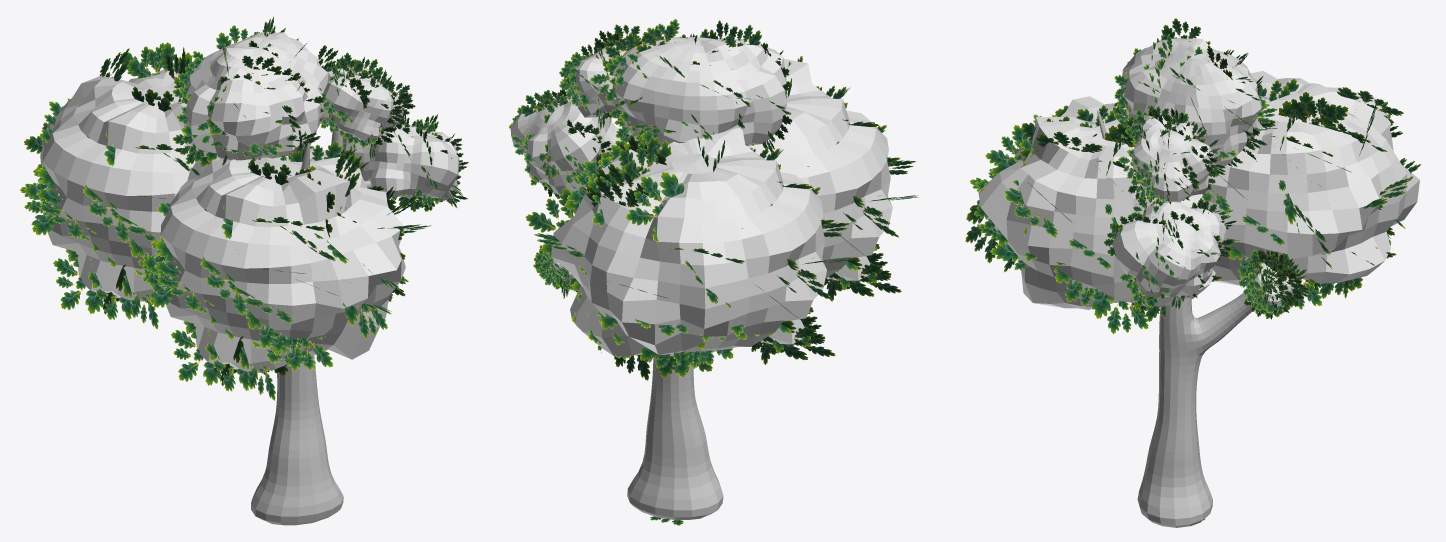
File: ldub.fbx
3 renders of one model, left to right at view 1: azimuth 30°, elevation 25°; view 2: azimuth 150°, elevation 25°; view 3: azimuth 270°, elevation 25°, orthographic. The views are drawn at different scales.
Parts seen in each view (by area): view 1: Сфера.003, Сфера.004, Сфера.002, Куб, Сфера, Сфера.005, Сфера.003|Плоскость|Dupli|25, Сфера.004|Плоскость|Dupli|25, Сфера.003|Плоскость|Dupli|183, Сфера.004|Плоскость|Dupli|93, Сфера.003|Плоскость|Dupli|27, Сфера.004|Плоскость|Dupli|27 (+12 smaller); view 2: Сфера.004, Сфера.002, Сфера.003, Куб, Сфера, Сфера.005, Сфера.004|Плоскость|Dupli|33, Сфера.003|Плоскость|Dupli|25, Сфера.004|Плоскость|Dupli|25, Сфера.004|Плоскость|Dupli|16, Сфера.004|Плоскость|Dupli|24, Сфера.004|Плоскость|Dupli|138 (+3 smaller); view 3: Сфера.004, Сфера.003, Куб, Сфера.002, Сфера, Сфера.005, Сфера.003|Плоскость|Dupli|26, Сфера.004|Плоскость|Dupli|76, Сфера.003|Плоскость|Dupli|43, Сфера.003|Плоскость|Dupli|11, Сфера.004|Плоскость|Dupli|24, Сфера.003|Плоскость|Dupli|56 (+5 smaller).
Boxes of the visible parts, x1=… form: Сфера.003: x1=160, y1=148, x2=405, y2=372; Сфера.004: x1=40, y1=67, x2=195, y2=301; Сфера.002: x1=184, y1=31, x2=328, y2=160; Куб: x1=251, y1=127, x2=372, y2=525; Сфера: x1=342, y1=124, x2=459, y2=200; Сфера.005: x1=321, y1=66, x2=403, y2=143; Сфера.003|Плоскость|Dupli|25: x1=171, y1=321, x2=234, y2=385; Сфера.004|Плоскость|Dupli|25: x1=53, y1=249, x2=116, y2=313; Сфера.003|Плоскость|Dupli|183: x1=269, y1=331, x2=333, y2=371; Сфера.004|Плоскость|Dupli|93: x1=127, y1=42, x2=194, y2=79; Сфера.003|Плоскость|Dupli|27: x1=142, y1=240, x2=174, y2=307; Сфера.004|Плоскость|Dupli|27: x1=24, y1=168, x2=56, y2=235; Сфера.004: x1=551, y1=128, x2=826, y2=356; Сфера.002: x1=612, y1=36, x2=786, y2=146; Сфера.003: x1=747, y1=59, x2=892, y2=280; Куб: x1=627, y1=354, x2=723, y2=520; Сфера: x1=510, y1=91, x2=620, y2=194; Сфера.005: x1=573, y1=40, x2=641, y2=117; Сфера.004|Плоскость|Dupli|33: x1=626, y1=172, x2=684, y2=242; Сфера.003|Плоскость|Dupli|25: x1=829, y1=257, x2=901, y2=296; Сфера.004|Плоскость|Dupli|25: x1=763, y1=320, x2=835, y2=360; Сфера.004|Плоскость|Dupli|16: x1=525, y1=187, x2=574, y2=258; Сфера.004|Плоскость|Dupli|24: x1=624, y1=136, x2=670, y2=179; Сфера.004|Плоскость|Dupli|138: x1=586, y1=177, x2=639, y2=207; Сфера.004: x1=1204, y1=71, x2=1419, y2=285; Сфера.003: x1=977, y1=96, x2=1215, y2=309; Куб: x1=1097, y1=110, x2=1251, y2=527; Сфера.002: x1=1120, y1=38, x2=1262, y2=165; Сфера: x1=1112, y1=200, x2=1226, y2=298; Сфера.005: x1=1131, y1=114, x2=1213, y2=202; Сфера.003|Плоскость|Dupli|26: x1=1091, y1=290, x2=1148, y2=333; Сфера.004|Плоскость|Dupli|76: x1=1278, y1=99, x2=1337, y2=126; Сфера.003|Плоскость|Dupli|43: x1=1004, y1=180, x2=1058, y2=237; Сфера.003|Плоскость|Dupli|11: x1=965, y1=200, x2=997, y2=263; Сфера.004|Плоскость|Dupli|24: x1=1279, y1=92, x2=1348, y2=123; Сфера.003|Плоскость|Dupli|56: x1=985, y1=125, x2=1028, y2=165.
Bounding box in the file's own units: 2102 × 2545 × 2355.
